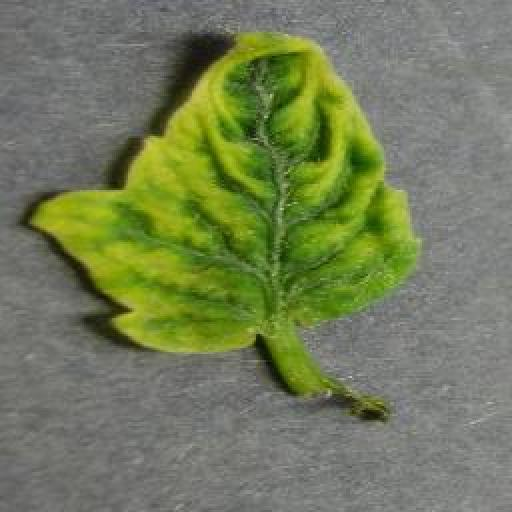Yellow Leaf Curl Virus: (31, 27, 425, 357)
